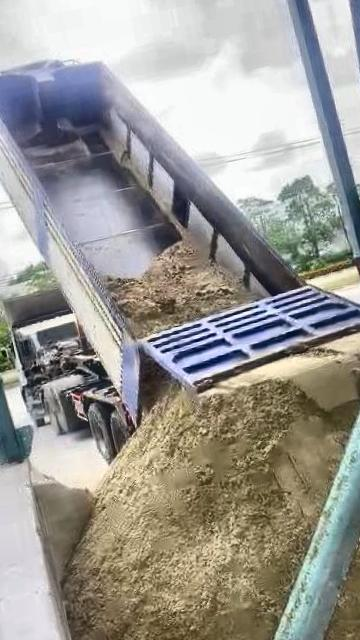sand: (65, 357, 357, 640), (108, 239, 258, 337), (317, 417, 360, 640), (247, 329, 360, 410), (33, 467, 92, 581)
